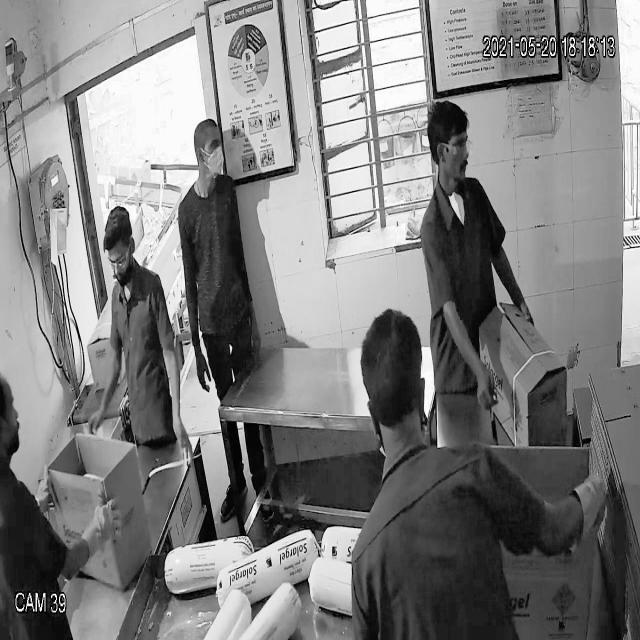glasses: (433, 131, 477, 157), (102, 246, 134, 268)
no-glass: (195, 134, 228, 158)
